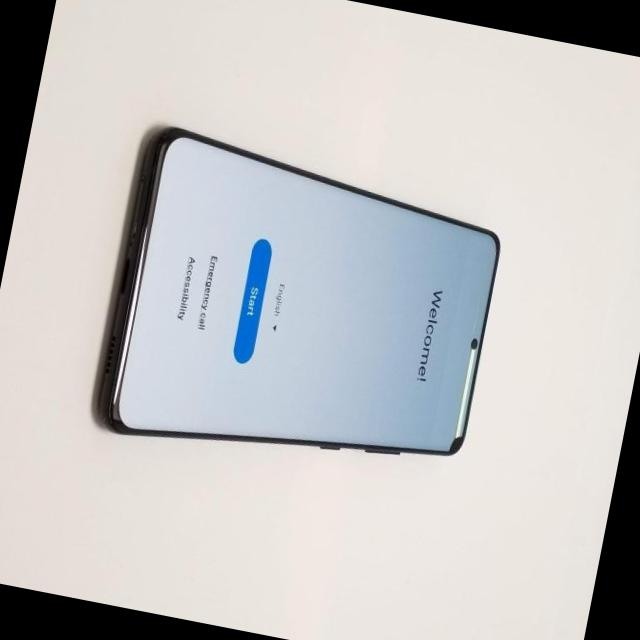dead pixel: (432, 409, 484, 473)
